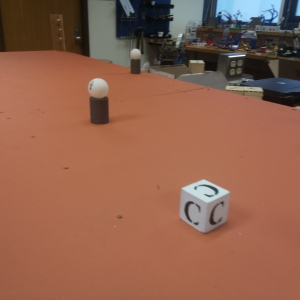blockC: (180, 179, 229, 230)
corner: (50, 14, 65, 50)
obstacle: (87, 77, 111, 124), (129, 48, 140, 76)
